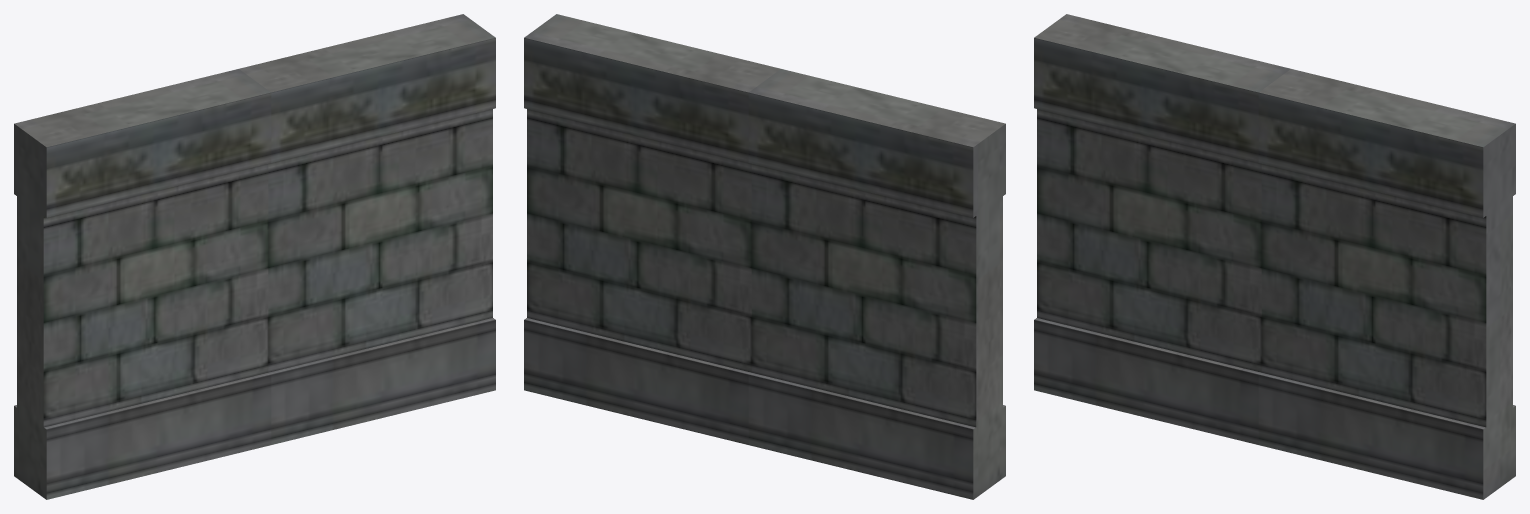
Rendered from sd_wall_large_01.glb.
The picture shows the model from 3 angles, left to right: view 1: azimuth 30°, elevation 25°; view 2: azimuth 150°, elevation 25°; view 3: azimuth 330°, elevation 25°; orthographic projection.
Visible parts, largest first — view 1: wall_large_01; view 2: wall_large_01; view 3: wall_large_01.
Boxes of the visible parts, x1=… form: wall_large_01: x1=14, y1=14, x2=495, y2=499; wall_large_01: x1=524, y1=14, x2=1005, y2=499; wall_large_01: x1=1034, y1=14, x2=1515, y2=499.
Size of the model in its own units: 4 by 3 by 0.5.
1 material, 1 textured.
